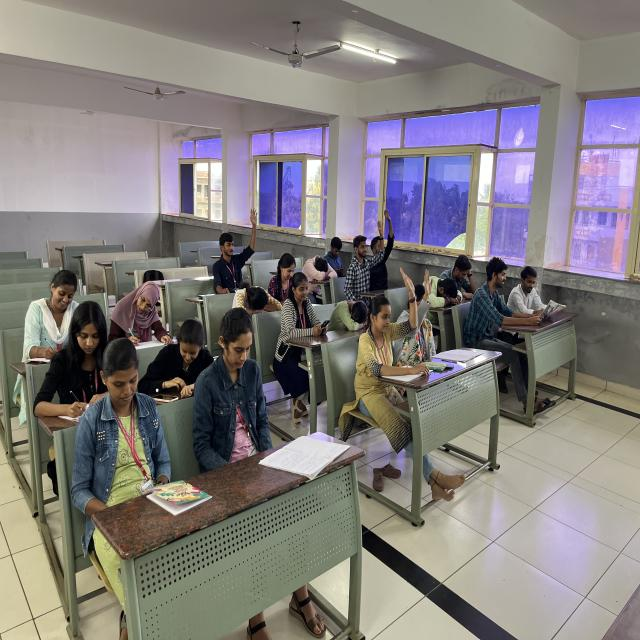Hand Rising: (204, 198, 267, 292), (364, 259, 419, 360), (399, 263, 441, 363), (371, 196, 402, 290), (347, 213, 385, 287)
Reading: (474, 242, 568, 334), (514, 233, 569, 330)
Sleeping: (229, 272, 282, 321), (326, 286, 373, 341), (424, 265, 466, 313), (302, 241, 336, 292), (324, 229, 348, 279)
Using Phone: (74, 334, 178, 486), (191, 306, 283, 451), (142, 313, 211, 407), (278, 271, 332, 369), (449, 246, 487, 305), (271, 235, 296, 306)
Writing: (44, 295, 115, 424), (112, 249, 184, 361), (16, 258, 89, 359)
